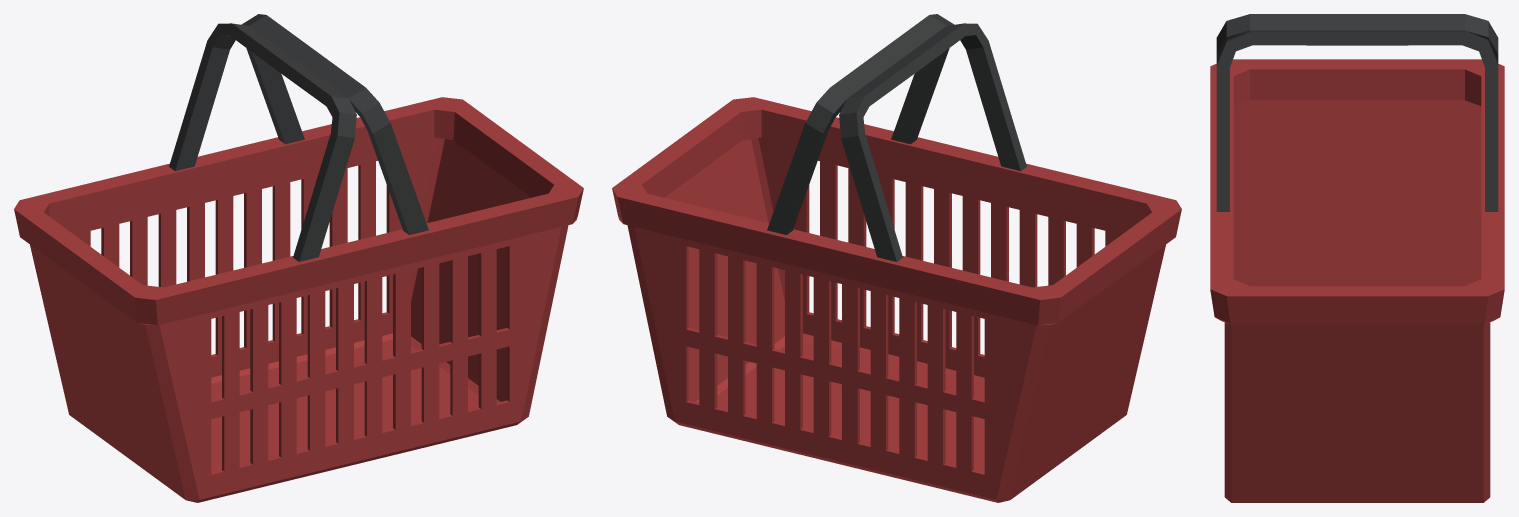
Rendered from SM_Props_Interior_SuperMarket_Basket.fbx.
The picture shows the model from 3 angles, left to right: view 1: azimuth 30°, elevation 25°; view 2: azimuth 150°, elevation 25°; view 3: azimuth 270°, elevation 25°; orthographic projection. The views are drawn at different scales.
Visible parts, largest first — view 1: SM_Props_Interior_SuperMarket_Basket; view 2: SM_Props_Interior_SuperMarket_Basket; view 3: SM_Props_Interior_SuperMarket_Basket.
Boxes of the visible parts, left/top/right/bottom form: SM_Props_Interior_SuperMarket_Basket: left=14, top=14, right=583, bottom=502; SM_Props_Interior_SuperMarket_Basket: left=612, top=14, right=1181, bottom=502; SM_Props_Interior_SuperMarket_Basket: left=1210, top=14, right=1504, bottom=502.
Size of the model in its own units: 84.36 by 65.68 by 44.36.
